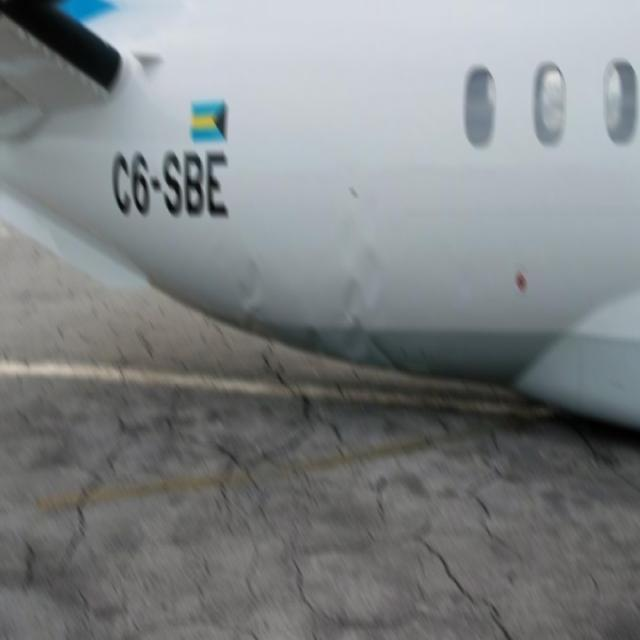dent: (231, 192, 398, 390)
